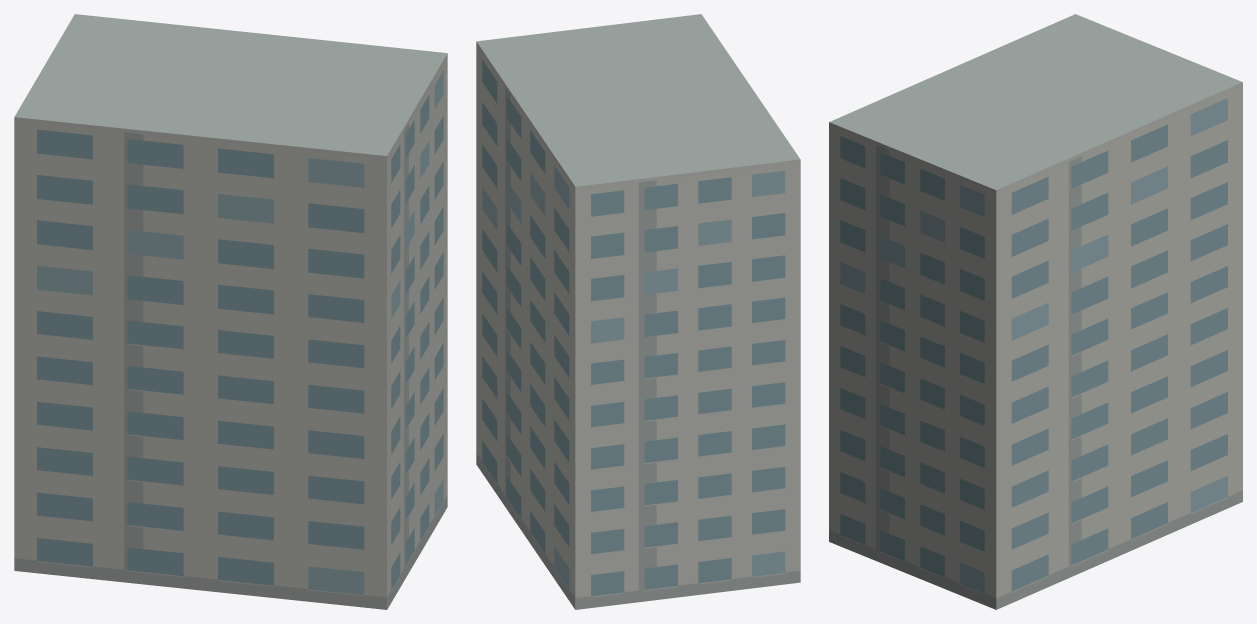
Rendered from residential-f94f3c66-ce1f-46bc-8fe8-c10b773124f9.glb.
3 renders of one model, left to right at view 1: azimuth 30°, elevation 25°; view 2: azimuth 150°, elevation 25°; view 3: azimuth 270°, elevation 25°, orthographic. The views are drawn at different scales.
Visible parts, largest first — view 1: residential-f94f3c66-ce1f-46bc-8fe8-c10b773124f9.tmp; view 2: residential-f94f3c66-ce1f-46bc-8fe8-c10b773124f9.tmp; view 3: residential-f94f3c66-ce1f-46bc-8fe8-c10b773124f9.tmp.
Part boxes in pixels (x1,y1,x2,y2): residential-f94f3c66-ce1f-46bc-8fe8-c10b773124f9.tmp: [14, 14, 447, 609]; residential-f94f3c66-ce1f-46bc-8fe8-c10b773124f9.tmp: [476, 14, 800, 609]; residential-f94f3c66-ce1f-46bc-8fe8-c10b773124f9.tmp: [829, 14, 1242, 609].
Bounding box in the file's own units: 27.03 × 30 × 26.81.
